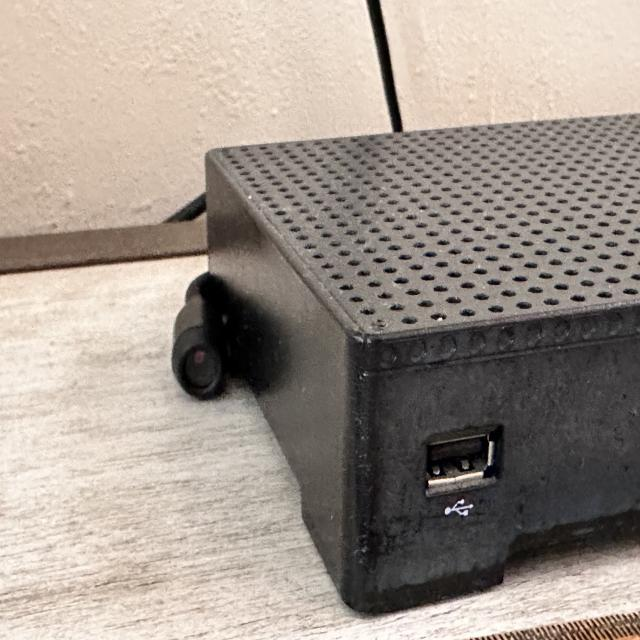hidden camera: (176, 336, 225, 406)
